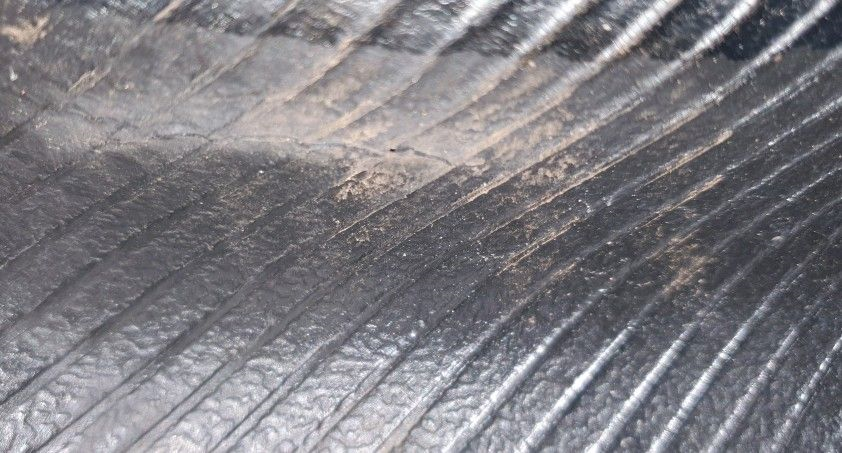CBU: (32, 101, 490, 177)
